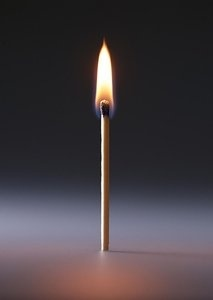fire: (93, 37, 114, 115)
